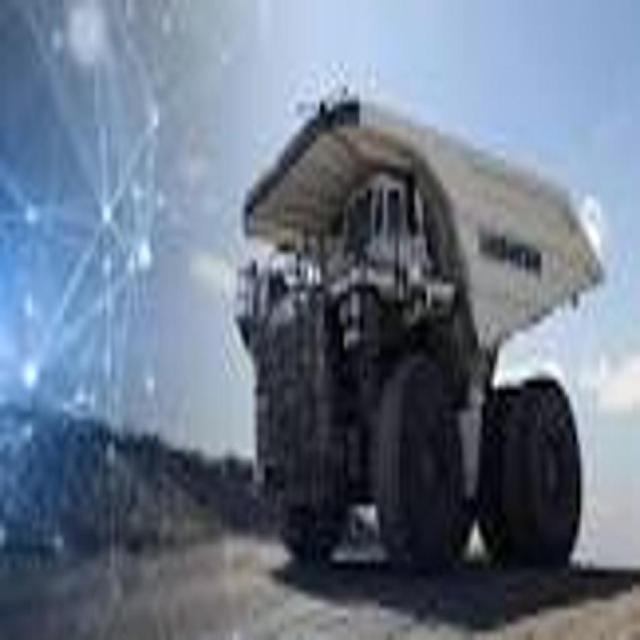dump_truck: (240, 75, 608, 592)
